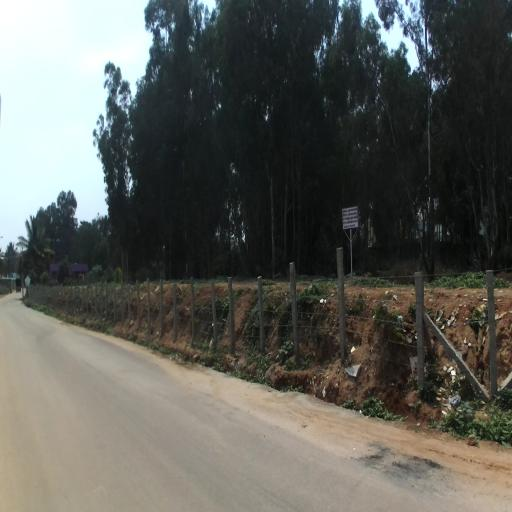street_light_0: (0, 235, 4, 239)
